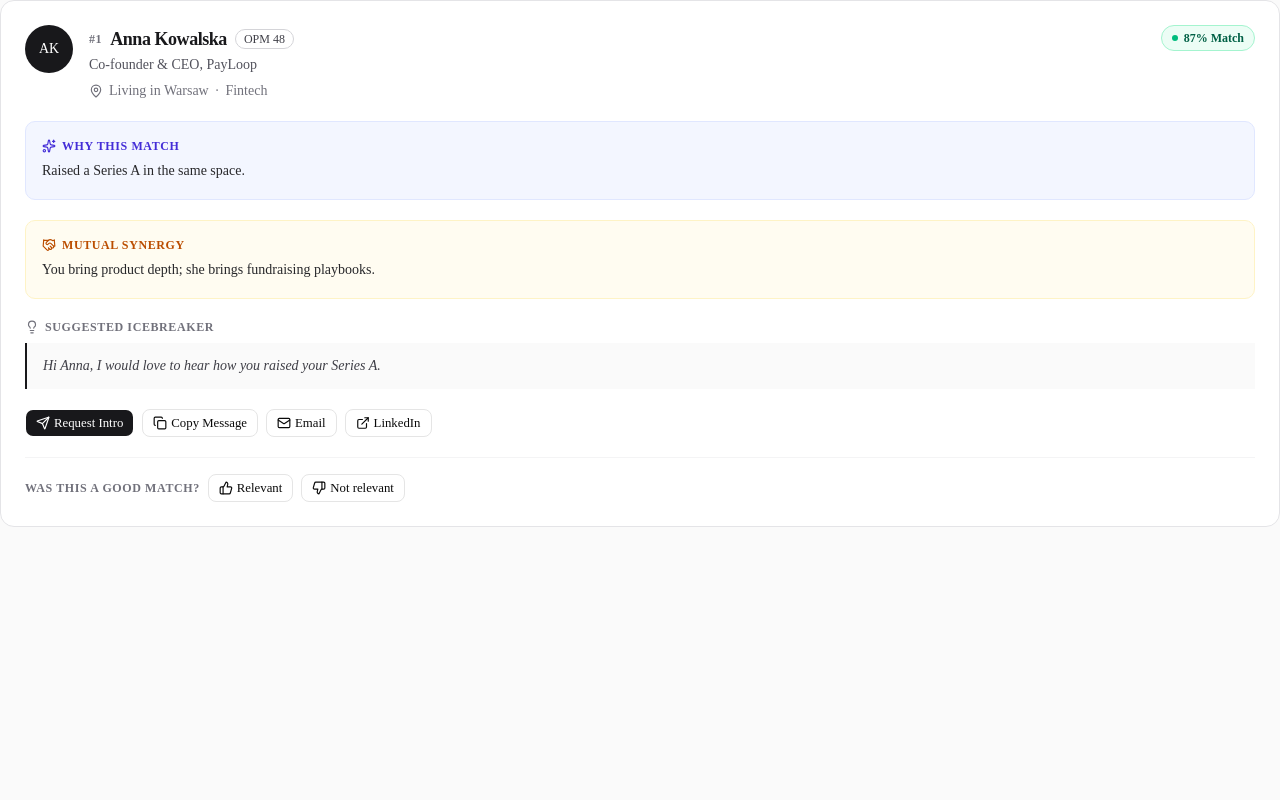
Test: MatchCard › Request Intro › keeps the card actionable when the server rejects the request
The width and height of the screenshot is (1280, 800).
Click the button "Request Intro" at (80, 423), box [25, 409, 134, 437]
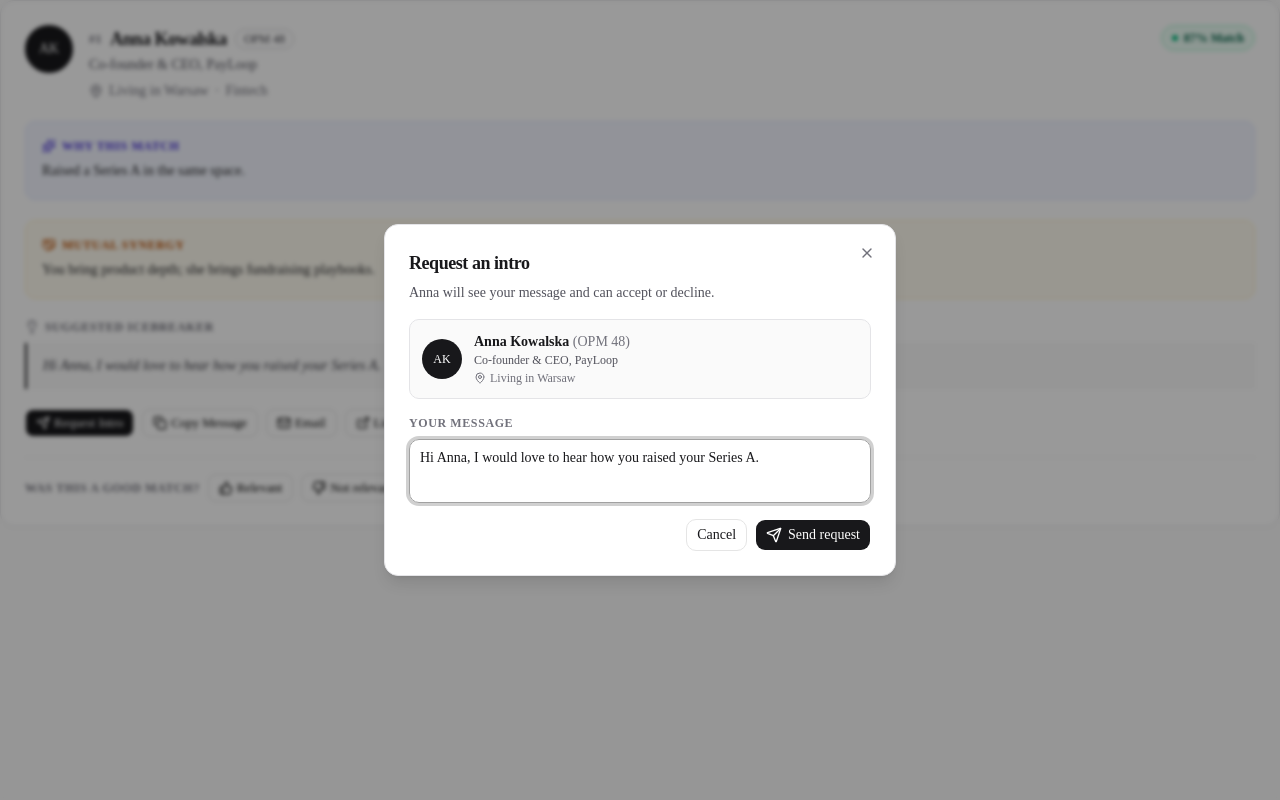
Click the button "Send request" at (813, 535), box [755, 519, 871, 551]
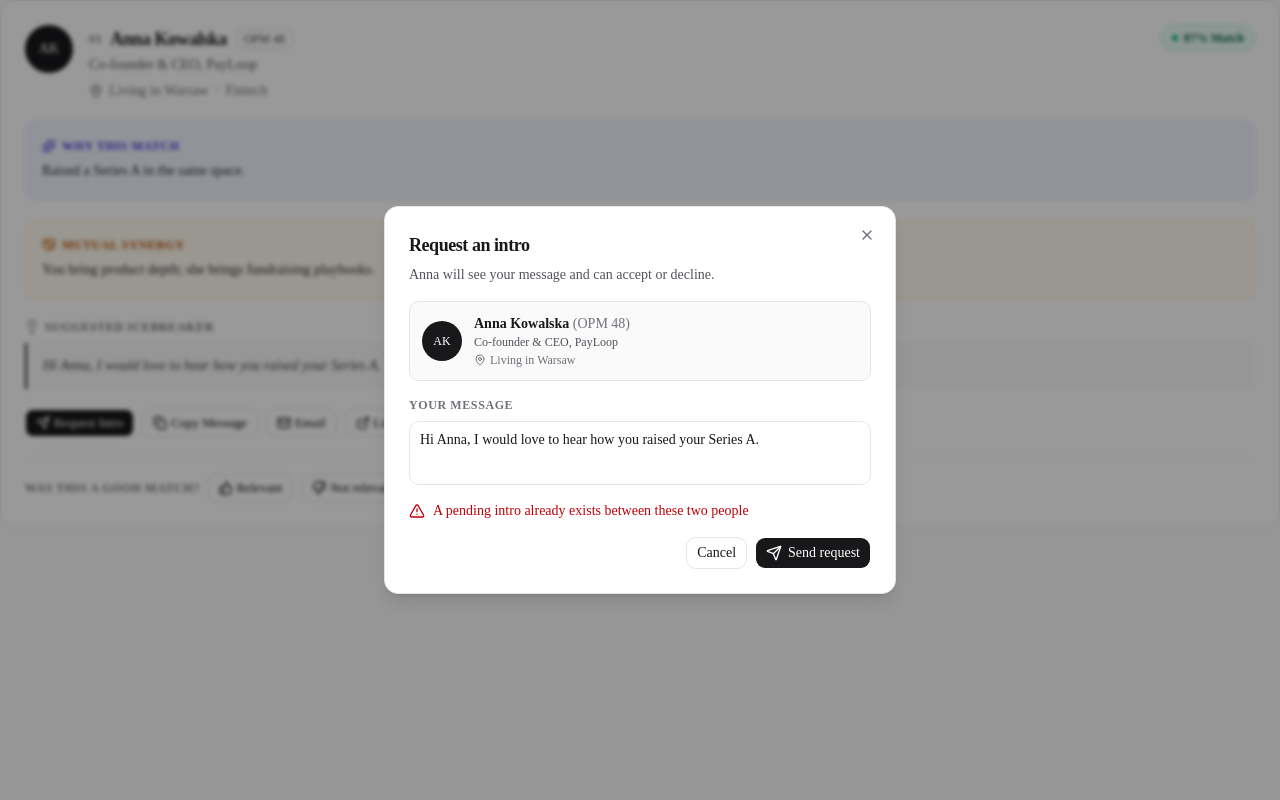
Expected: the button "Request Intro" is enabled, [25, 409, 134, 437]
Expected: the message shows "already exists", [433, 503, 749, 518]
